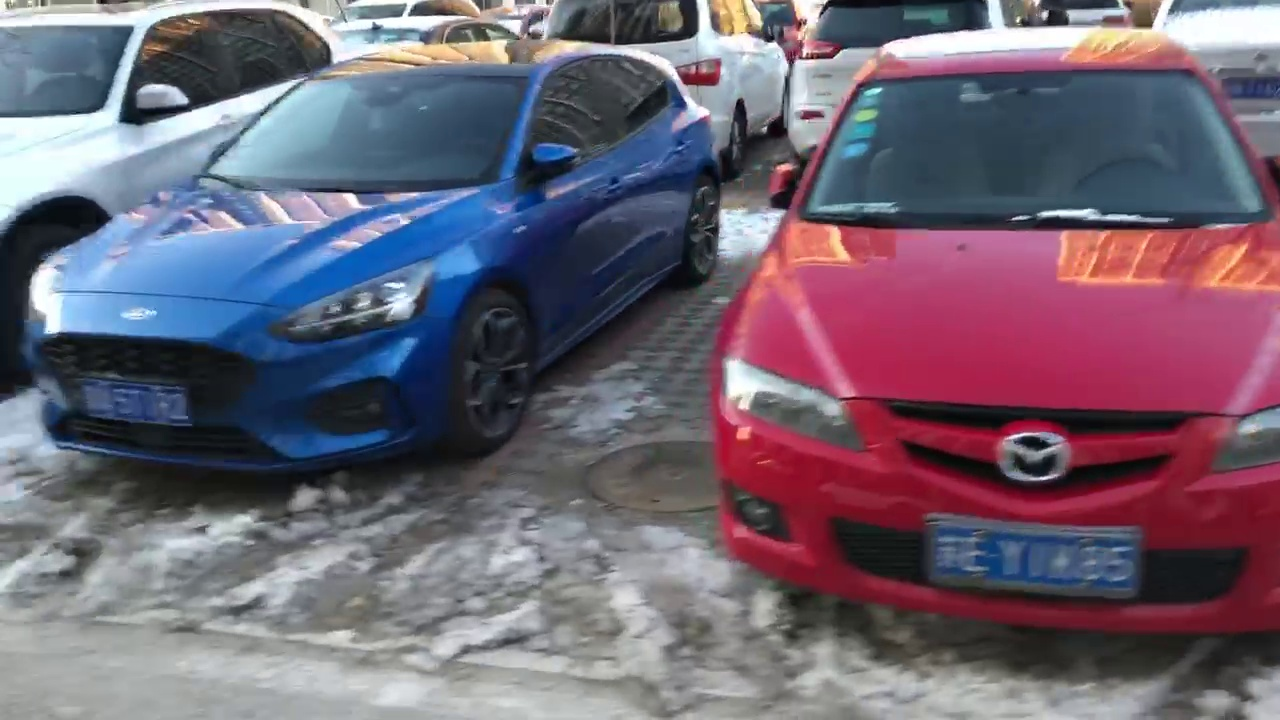plate: (930, 526, 1145, 591), (82, 384, 198, 430)
